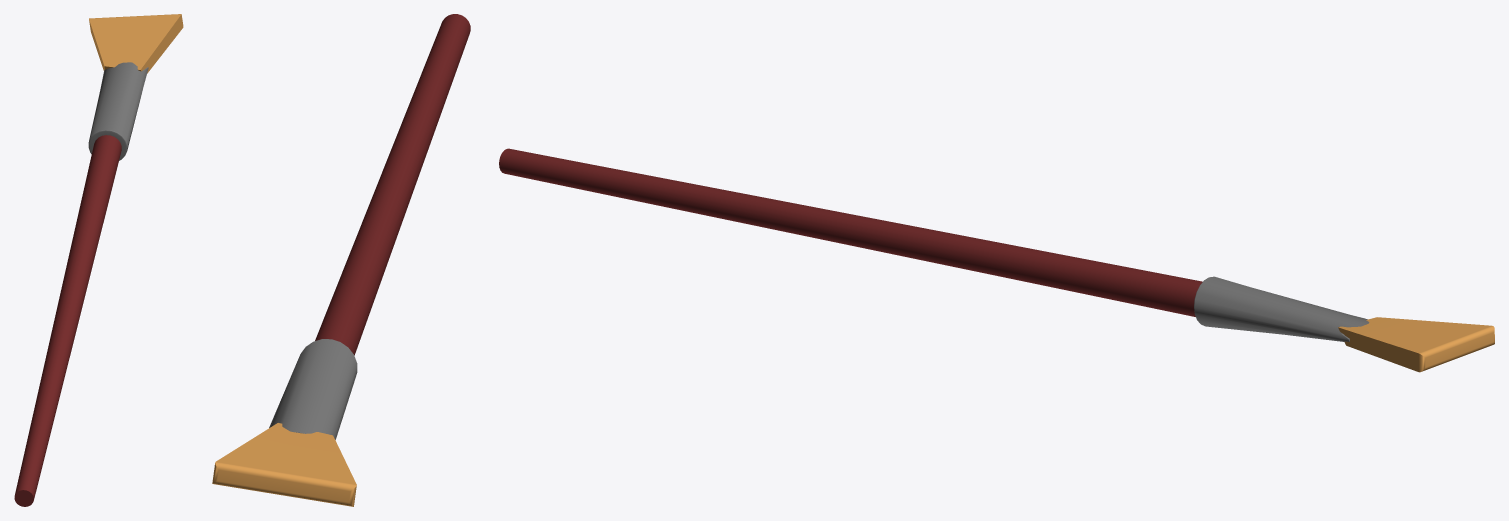
Rendered from pen.fbx.
3 renders of one model, left to right at view 1: azimuth 30°, elevation 25°; view 2: azimuth 210°, elevation 25°; view 3: azimuth 270°, elevation 25°, orthographic. The views are drawn at different scales.
Visible parts, largest first — view 1: penShape; view 2: penShape; view 3: penShape.
Part boxes in pixels (<box>): penShape: <box>14,14,183,506</box>; penShape: <box>212,14,470,506</box>; penShape: <box>499,148,1494,372</box>.
Bounding box in the file's own units: 13.85 × 2.77 × 17.8.
1 material, 1 textured.
